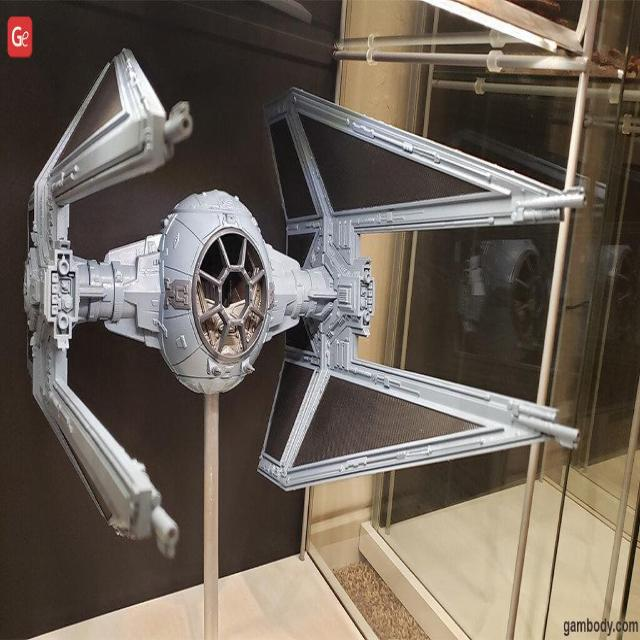Without deffect: (25, 39, 592, 558)
